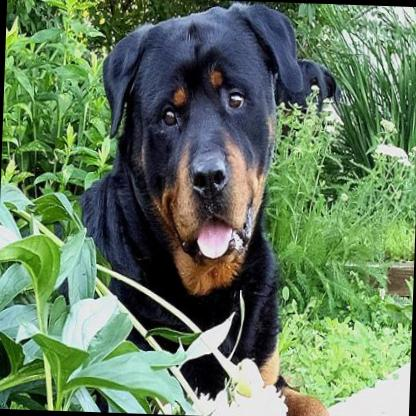Rottweiler: (59, 0, 345, 416)
